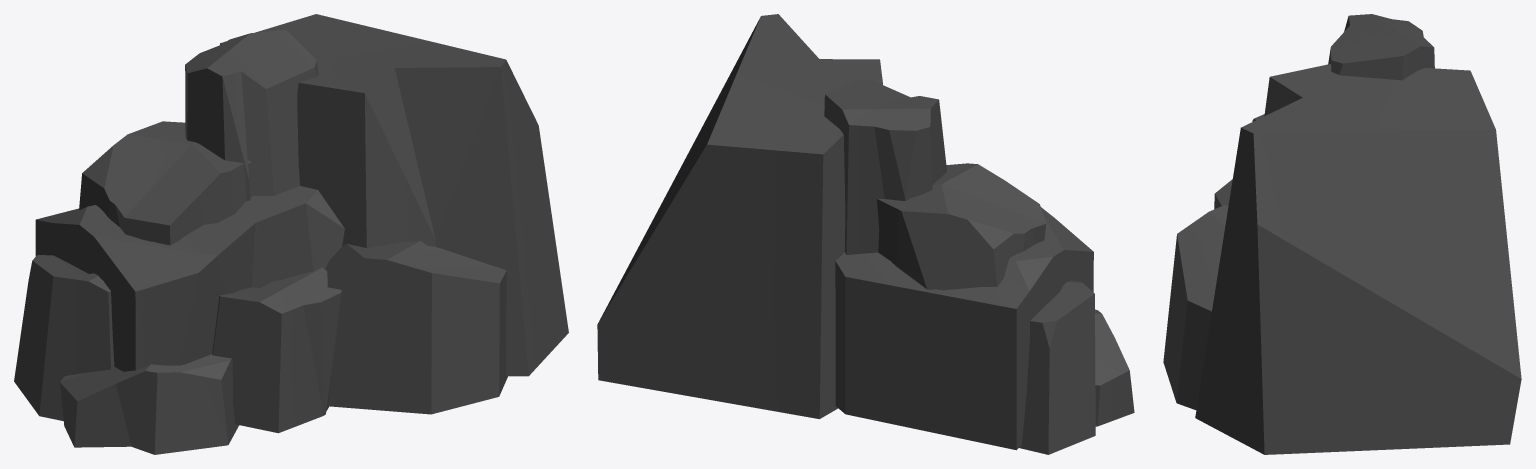
The model's file is volcanicRock01.fbx.
3 views of the same model, side by side, from view 1: azimuth 30°, elevation 25°; view 2: azimuth 150°, elevation 25°; view 3: azimuth 270°, elevation 25° (orthographic). The views are drawn at different scales.
Visible parts, largest first — view 1: Cliff_07; view 2: Cliff_07; view 3: Cliff_07.
Part boxes in pixels (x1=…): Cliff_07: x1=14, y1=14, x2=568, y2=454; Cliff_07: x1=597, y1=14, x2=1134, y2=454; Cliff_07: x1=1163, y1=14, x2=1521, y2=454.
Bounding box in the file's own units: 338 × 210 × 223.
Materials: 1 (1 with a texture image).
